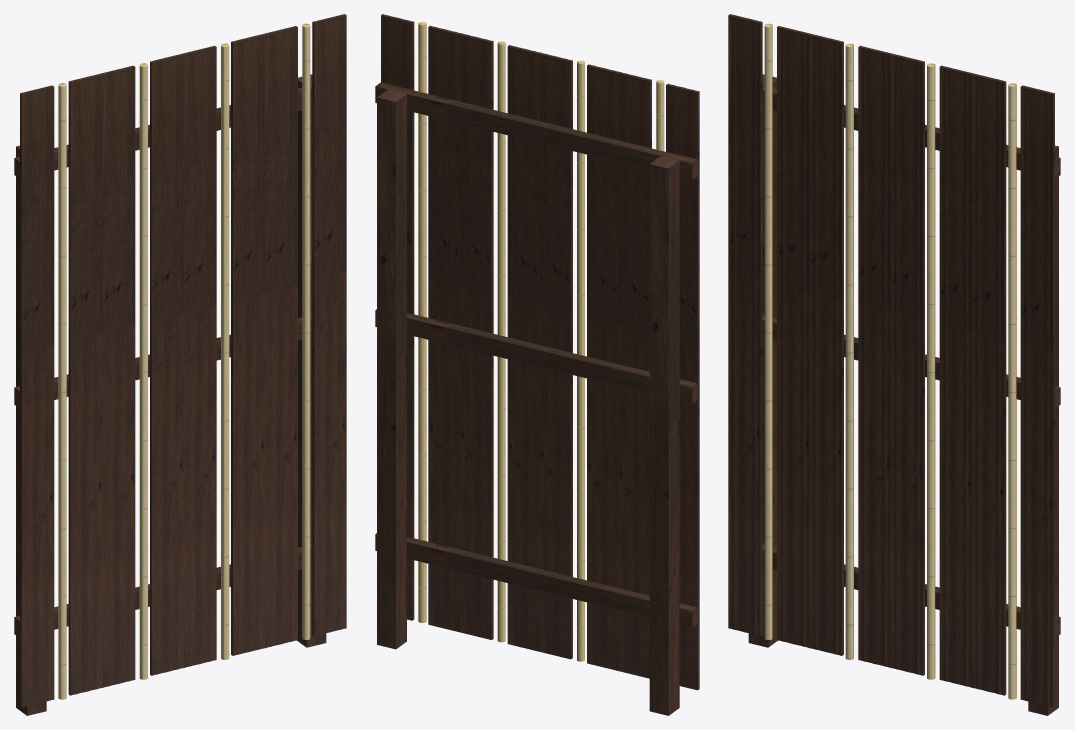
File: kodawari-yamato_h1800_darkpine.fbx
3 views of the same model, side by side, from view 1: azimuth 30°, elevation 25°; view 2: azimuth 150°, elevation 25°; view 3: azimuth 330°, elevation 25° (orthographic). The views are drawn at different scales.
Parts seen in each view (by area): view 1: kodawari-yamato_h1800_darkpine; view 2: kodawari-yamato_h1800_darkpine; view 3: kodawari-yamato_h1800_darkpine.
Boxes of the visible parts, bbox=[...] form: kodawari-yamato_h1800_darkpine: bbox=[14, 14, 346, 715]; kodawari-yamato_h1800_darkpine: bbox=[375, 14, 699, 715]; kodawari-yamato_h1800_darkpine: bbox=[728, 14, 1060, 715].
Bounding box in the file's own units: 100 × 185 × 11.2.
Materials: 3 (3 with a texture image).
